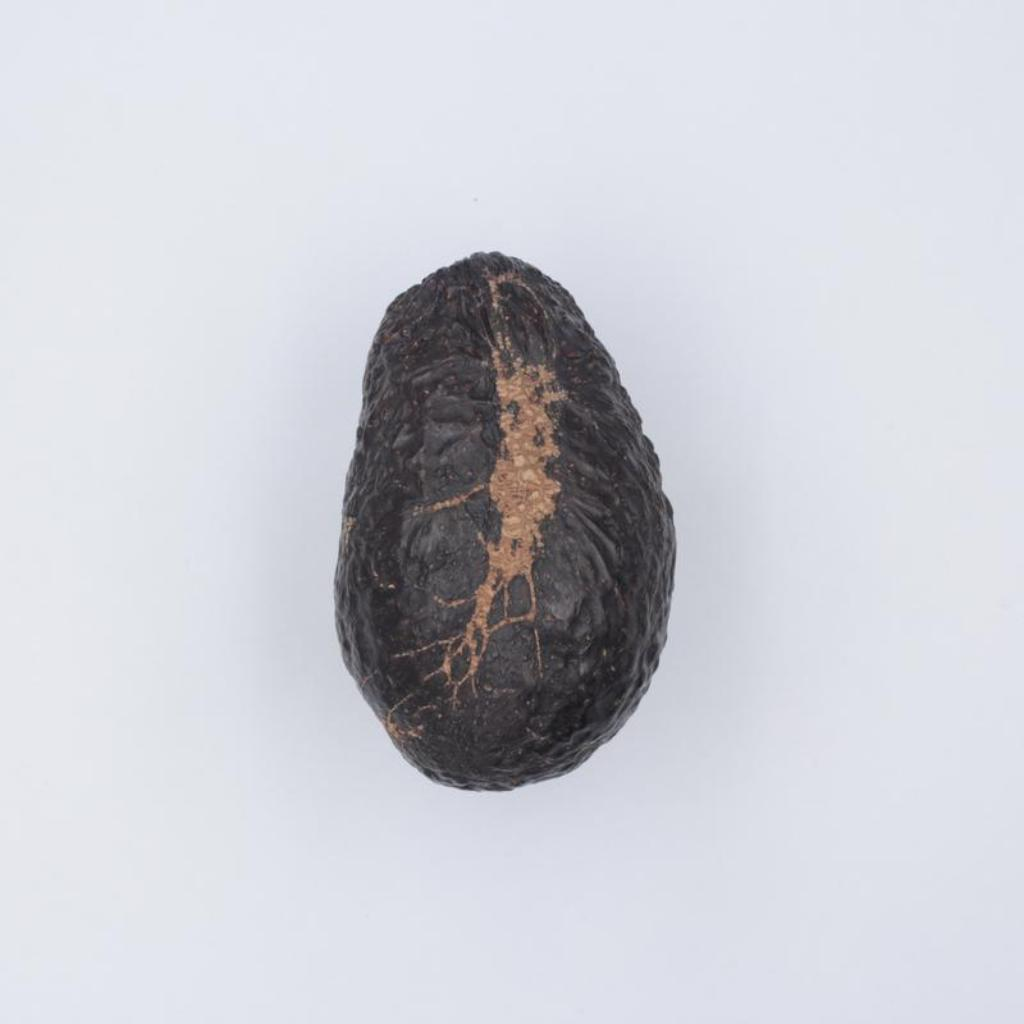rona: (334, 253, 675, 790)
